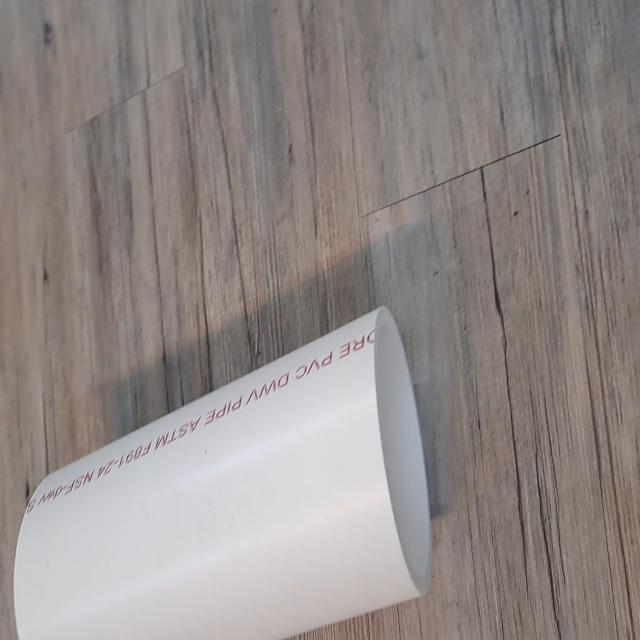CORAL: (11, 298, 437, 640)
